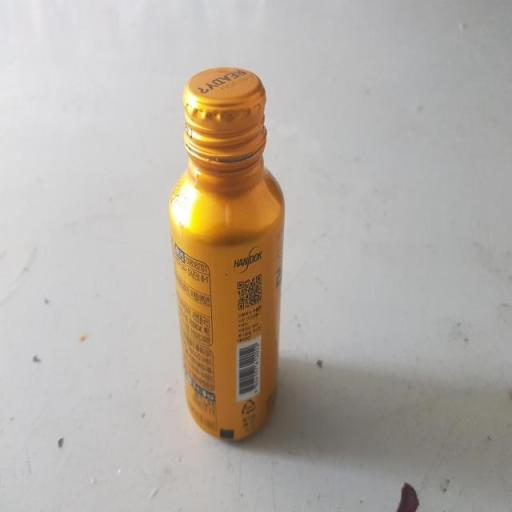metal: (150, 48, 305, 466)
